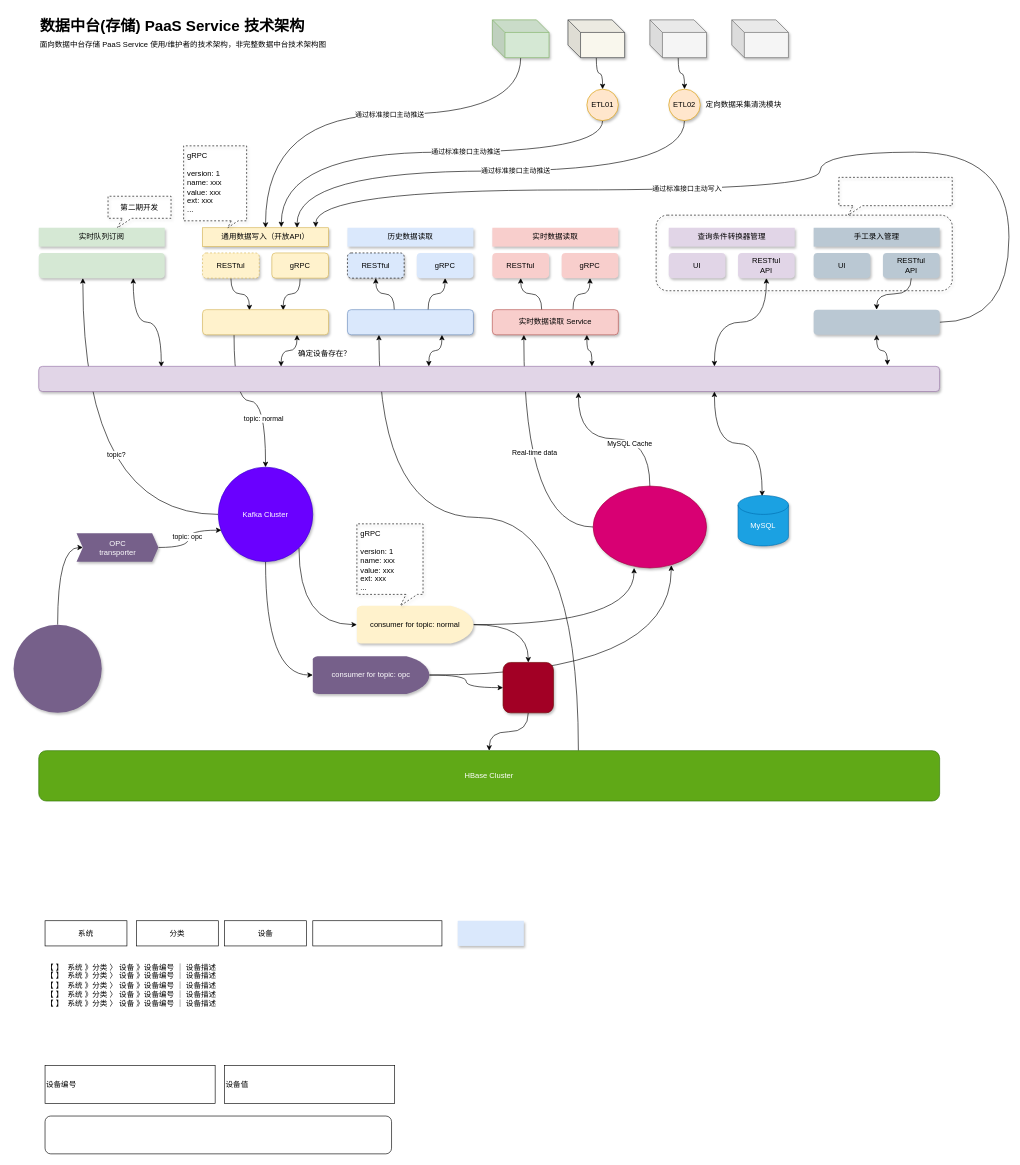
Some shapes in this 1020 by 1165 pixel diagram are drawn without their labels. The shapes that lost their labels are listed below. From the top down, each one's centre as x and y in pixels, then its label:
At point 521,39: "A公司设备".
At point 596,39: "B公司设备".
At point 678,39: "C公司设备".
At point 760,39: "D公司设备".
At point 896,197: "管理后台 HTTP based authentication".
At point 102,266: "WebSocket".
At point 265,322: "通用数据写入 Service".
At point 410,322: "历史数据读取 Service".
At point 877,323: "手工录入 Service".
At point 489,379: "查询条件转换器 Service".
At point 650,527: "Redis Cluster".
At point 58,669: "OPC Server".
At point 528,688: "数据指纹".
At point 377,933: "搜索关键字".
At point 491,934: "查找".
At point 218,1134: "提交".
